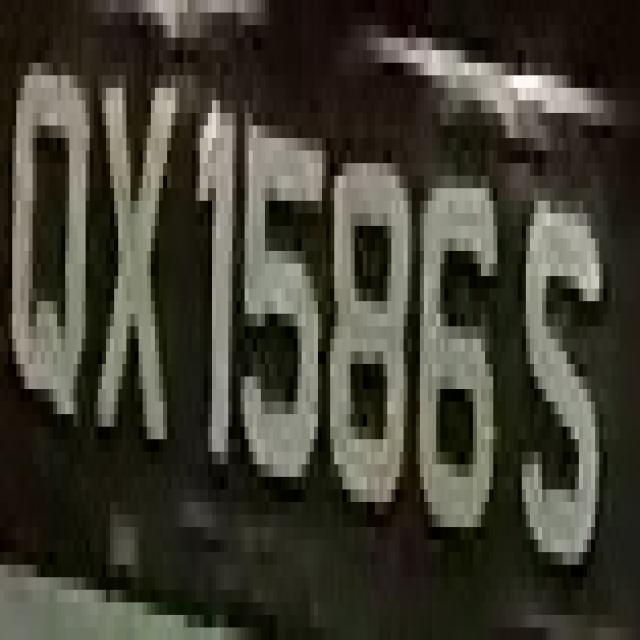1: (196, 38, 240, 477)
5: (241, 88, 322, 527)
6: (424, 113, 501, 540)
8: (322, 100, 412, 552)
Q: (8, 25, 98, 439)
S: (522, 113, 616, 602)
X: (98, 13, 179, 439)
